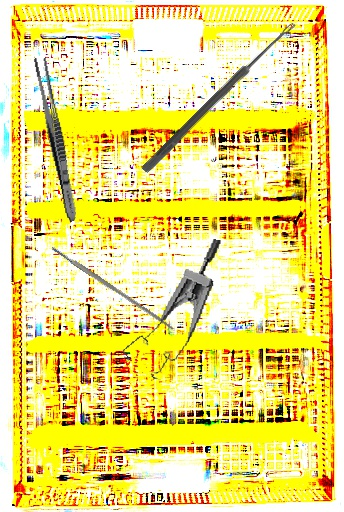Dressing Forceps: (30, 56, 82, 223)
Scalpel Handle: (50, 244, 176, 332)
Speculum: (117, 225, 224, 387)
Surgical Spoon: (141, 19, 297, 175)
